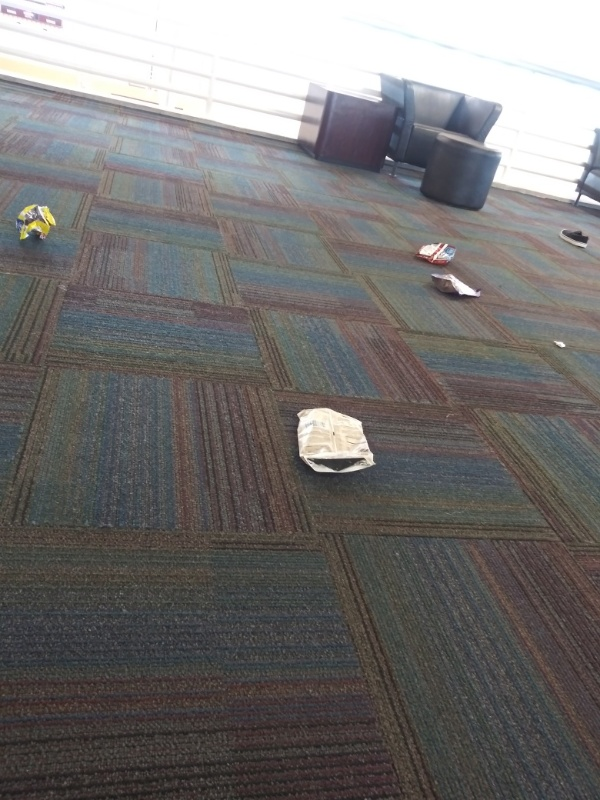bag: (289, 403, 383, 482), (424, 269, 492, 306), (12, 199, 62, 247), (410, 237, 463, 269)
